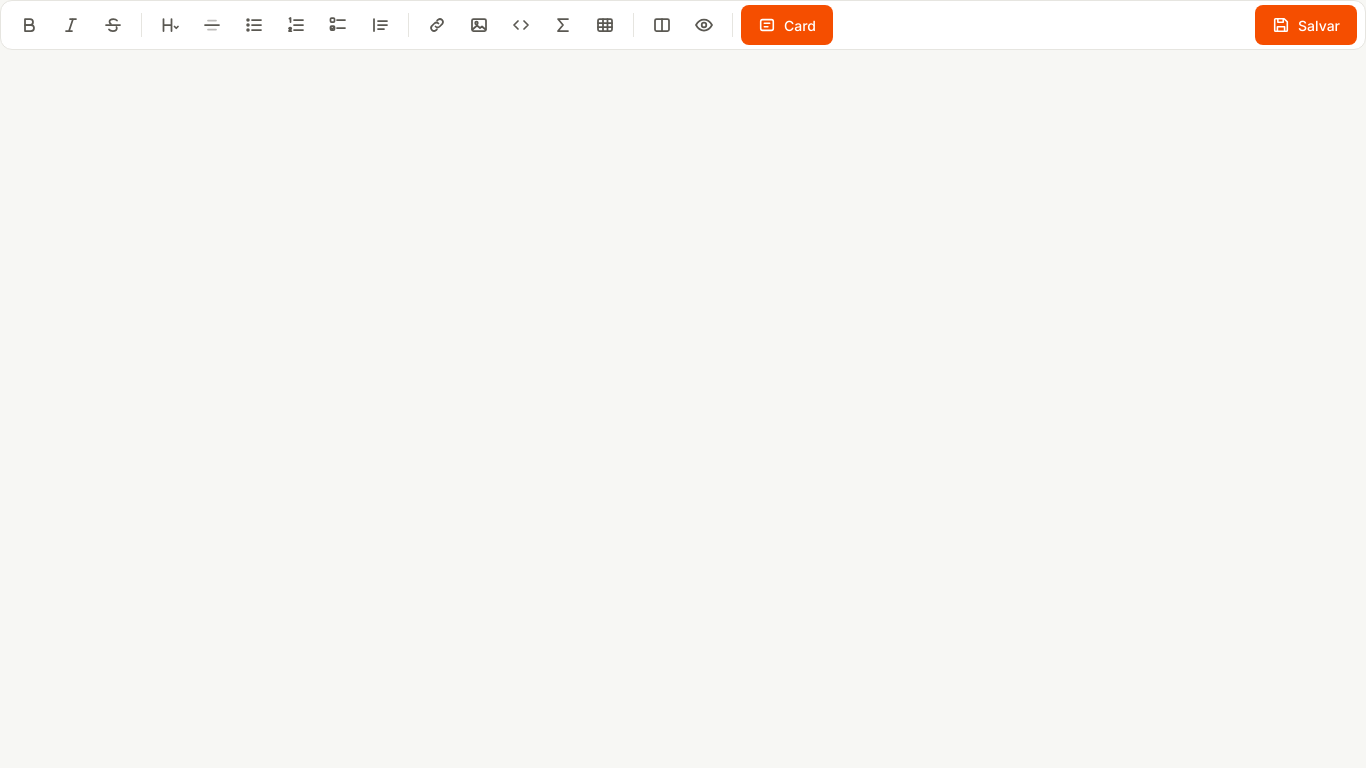
Test: Toolbar — botões › o menu Título fecha com Esc e com clique fora
Click the button named "Título" at (170, 25), box [150,5,190,45]
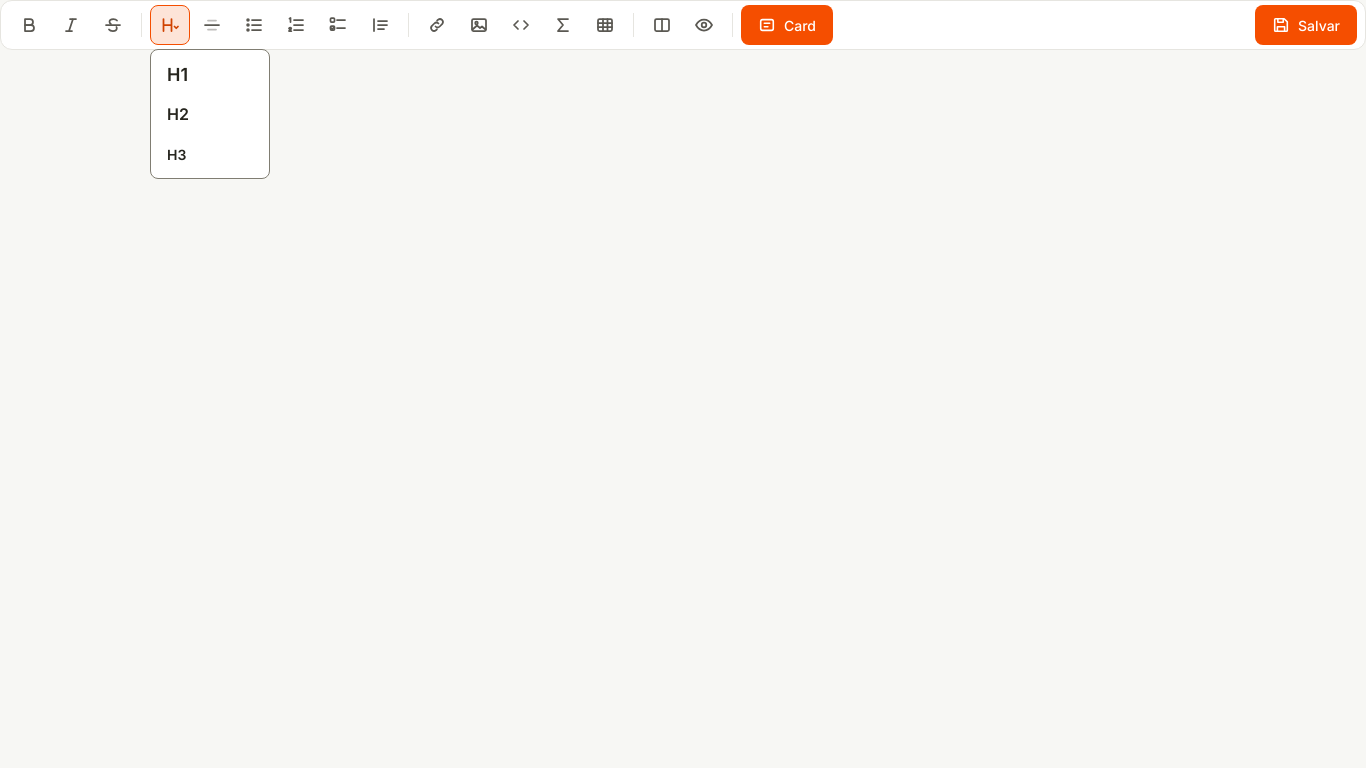
Expected: the menu is shown, [150,49,270,179]
Press Escape
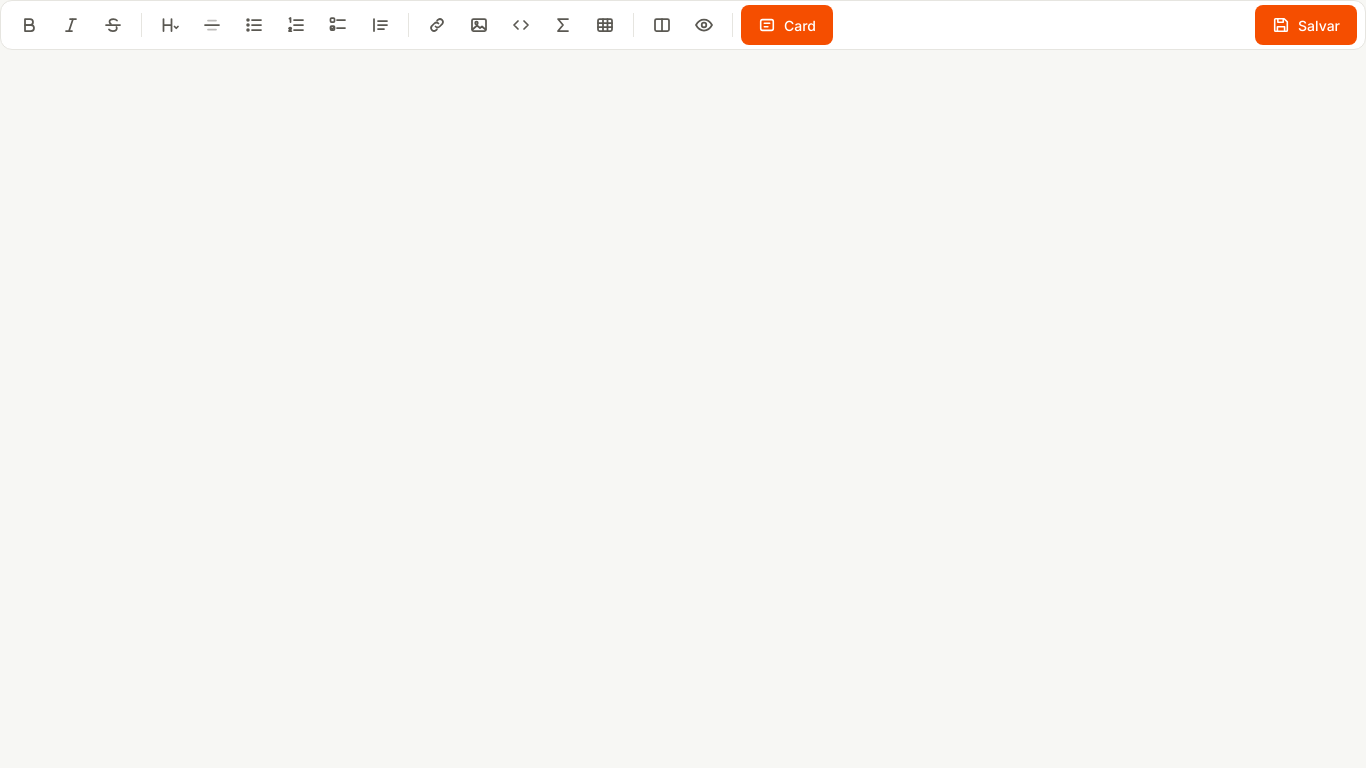
Expected: the menu is gone
Click the button named "Título" at (170, 25), box [150,5,190,45]
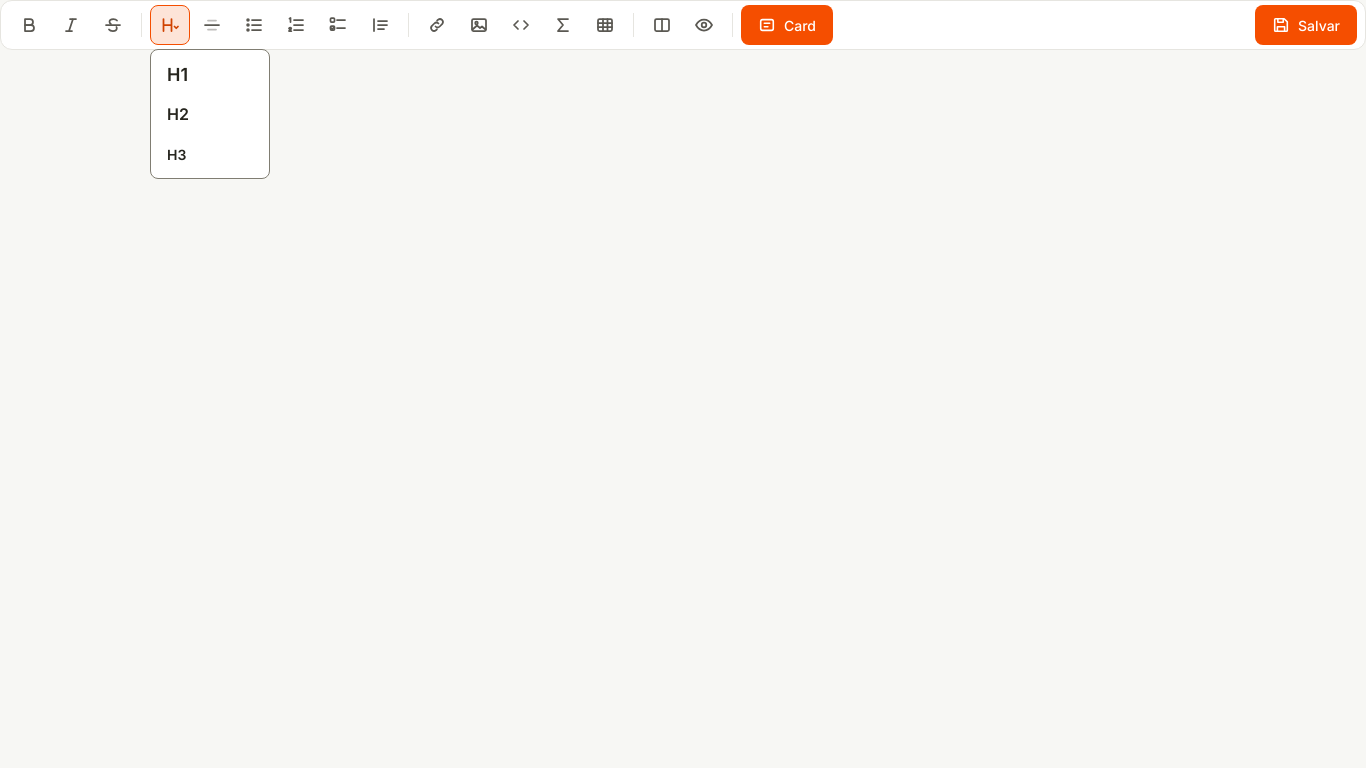
Expected: the menu is shown, [150,49,270,179]
Click the element showing "H1 H2 H3 Card Salvar" at (683, 384), box [0,0,1365,767]
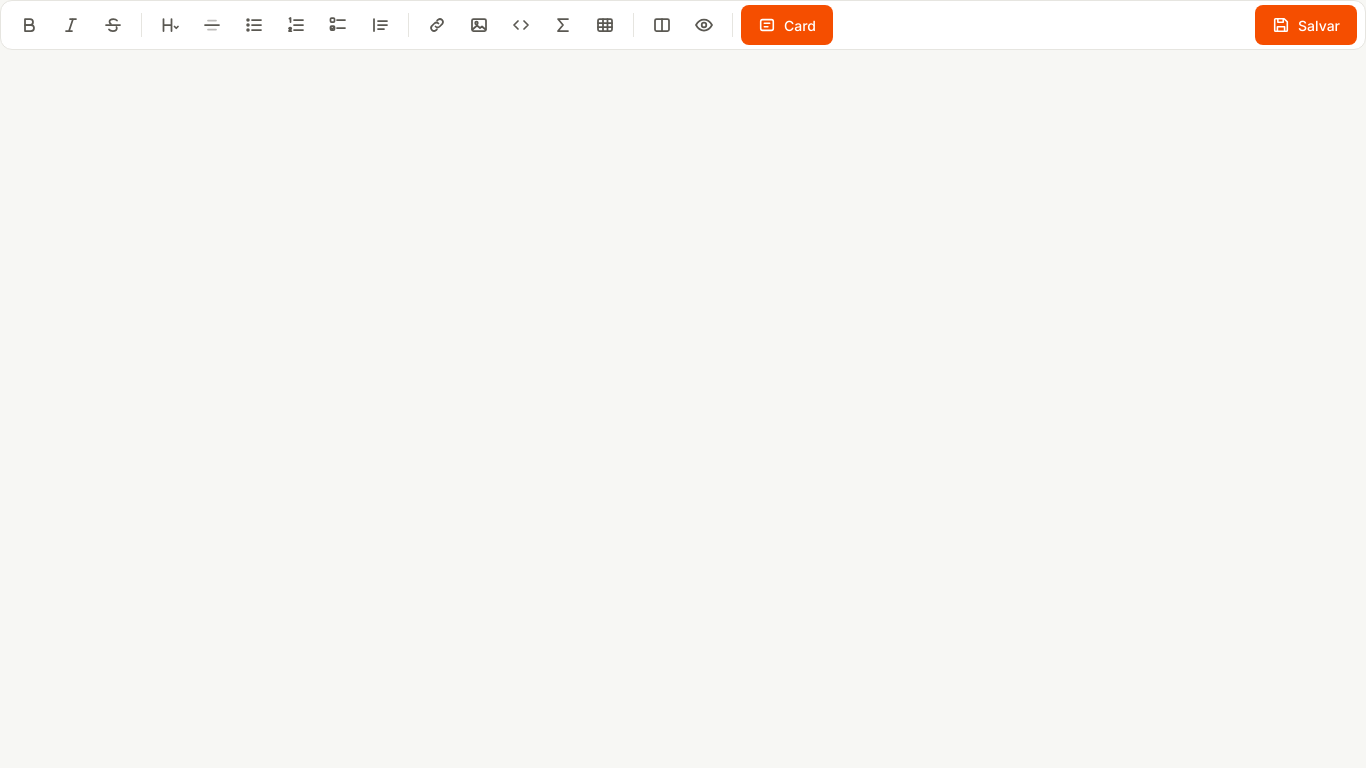
Expected: the menu is gone
